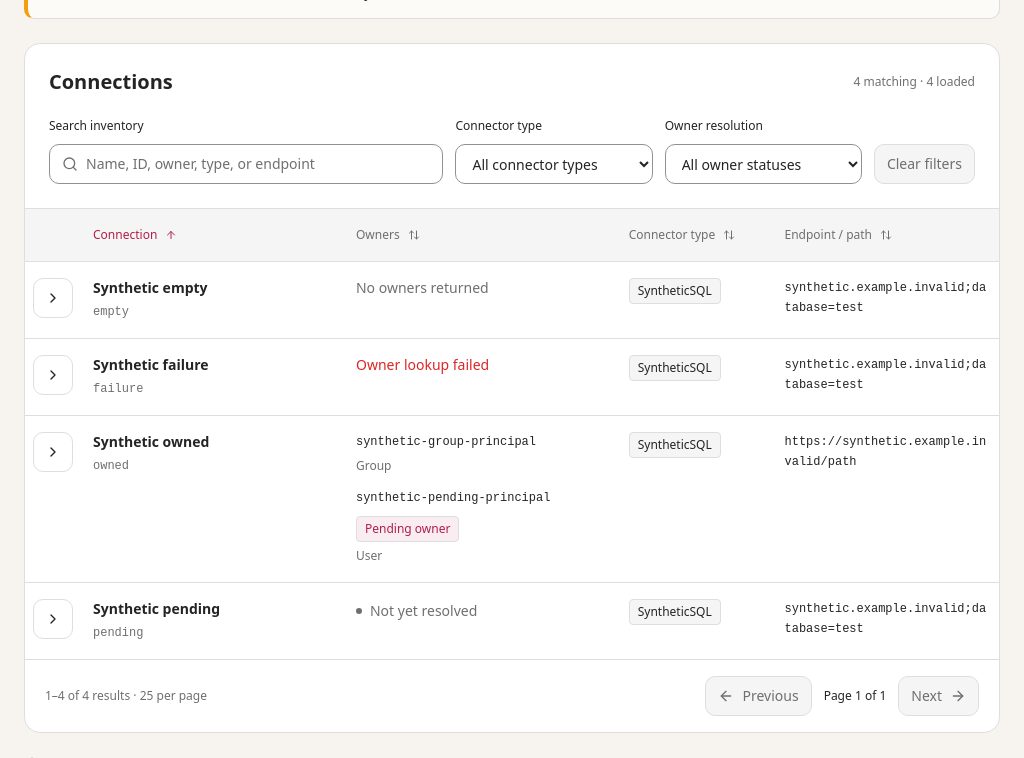
Test: Connection inventory › renders honest pending, failed, empty and pending-owner states, with plain-text endpoints
(page scrolled)
Expected: the text "Synthetic owned" is shown, [93,432,209,451]
Expected: the text "Not yet resolved" is shown, [356,601,477,621]
Click the button named "Show details for Synthetic failure": point(53, 375) [33,355,73,395]
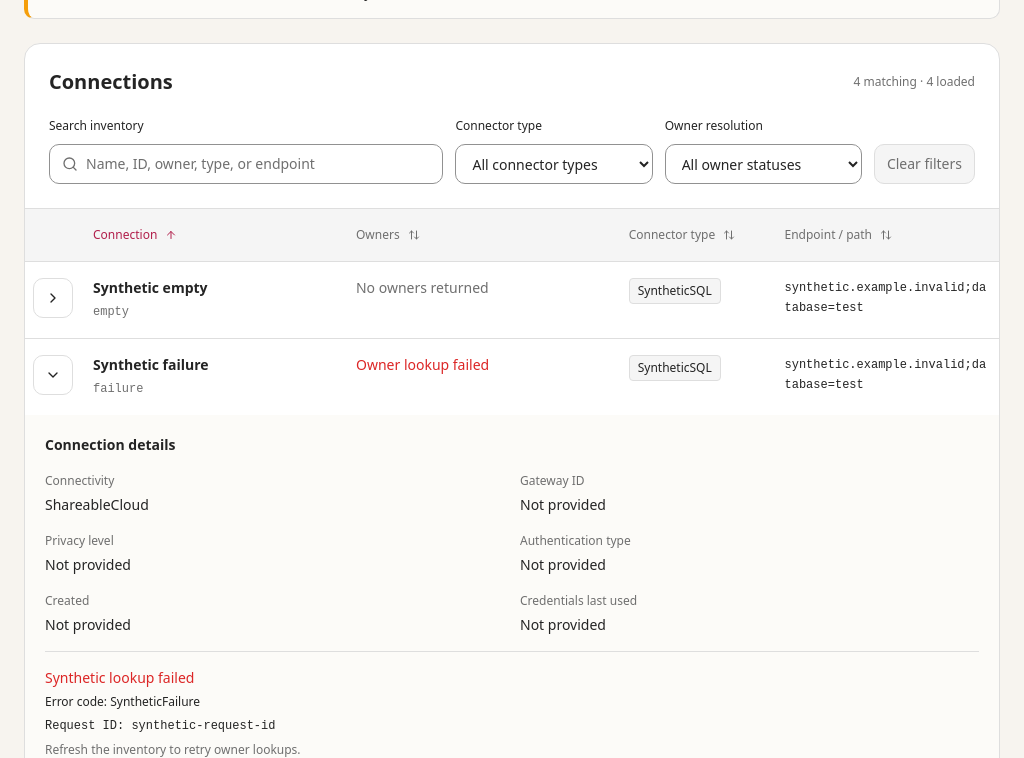
Result: the text "Request ID: synthetic-request-id" is shown at [45,719,276,733]
Result: the text "Not provided" below "Gateway ID" is shown at [520,495,606,514]
